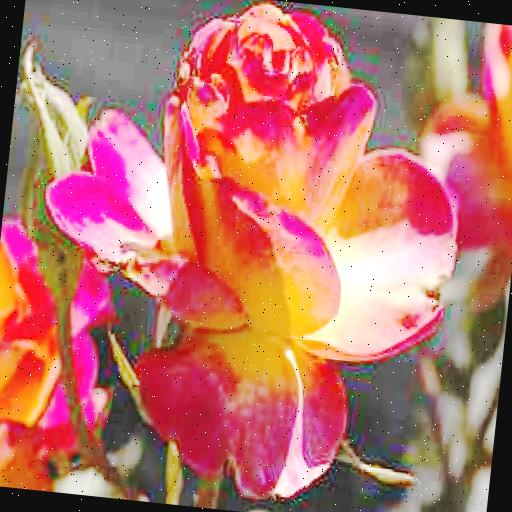rose: (145, 0, 371, 343)
